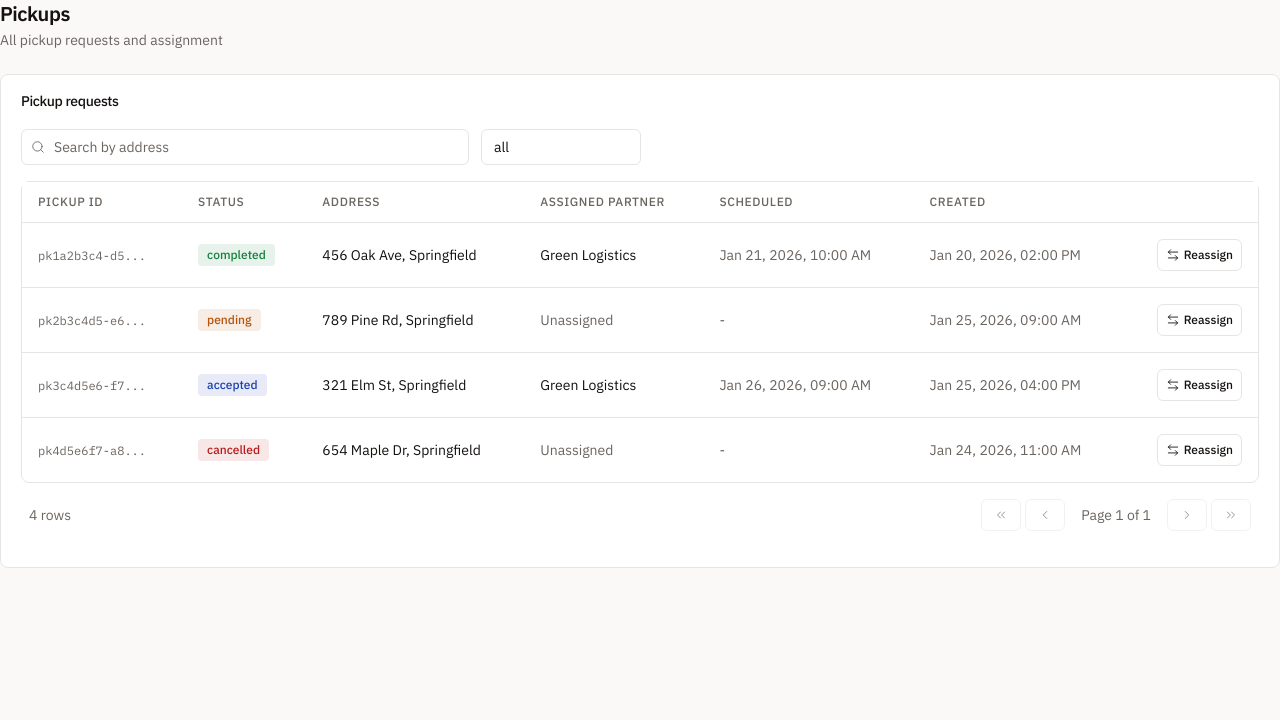
Test case: Pickups › closes the reassign drawer when cancel is clicked
Expected: the heading "Pickup requests" is shown, left=21, top=92, right=119, bottom=110
Click the button "Reassign" in the row of "pk1a2b3c4-d5" at (1199, 254), box left=1157, top=238, right=1242, bottom=270
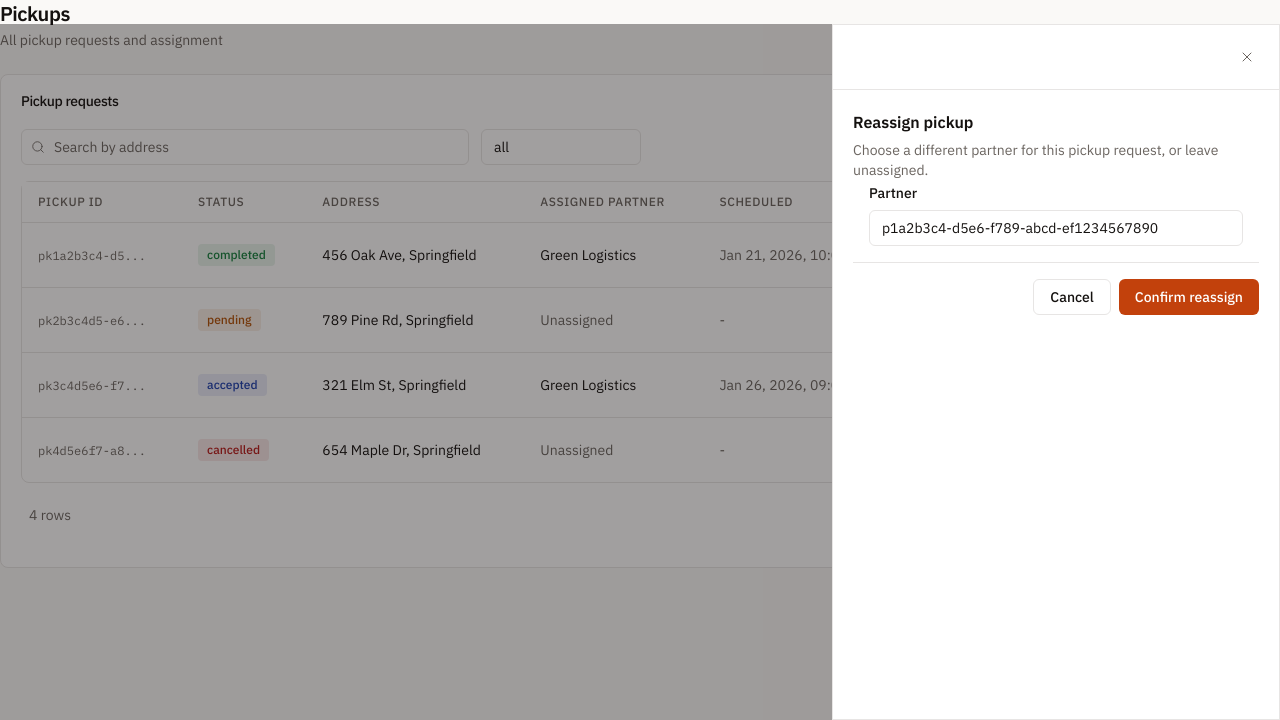
Expected: the heading "Reassign pickup" is shown, left=853, top=112, right=974, bottom=132
Click the button "Cancel" at (1072, 297), box left=1033, top=279, right=1111, bottom=315
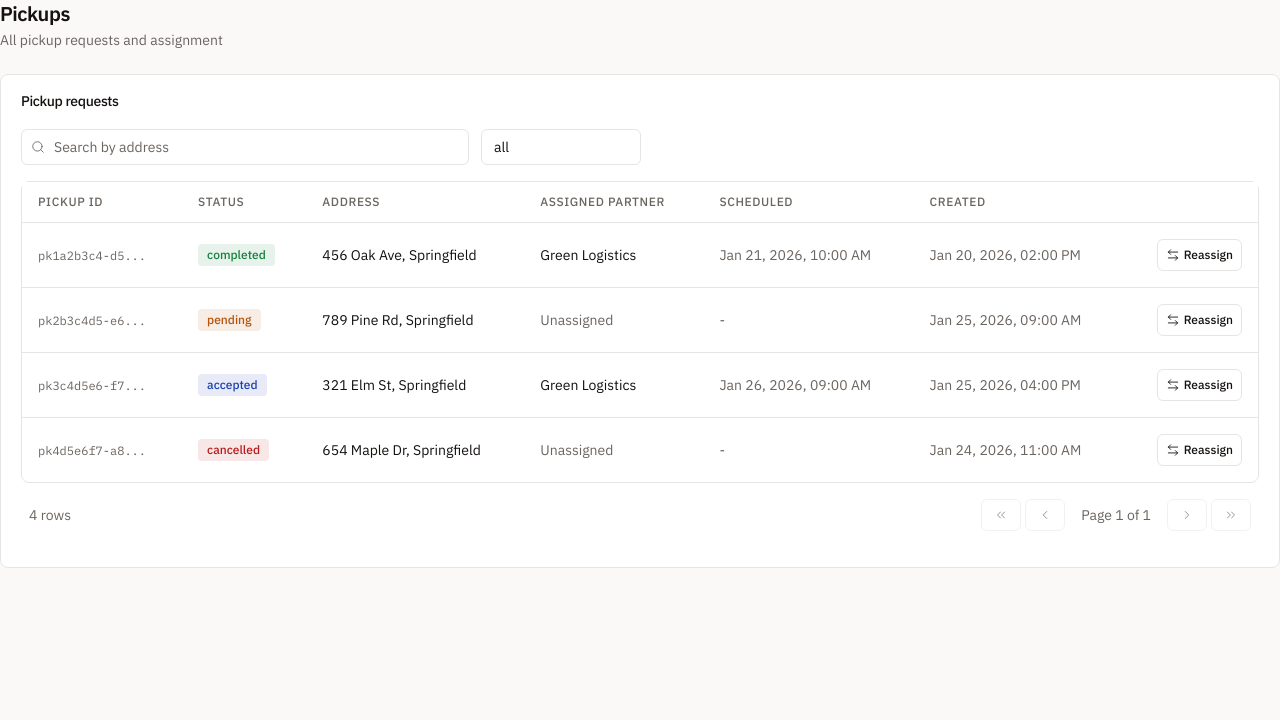
Expected: the heading "Reassign pickup" is gone
